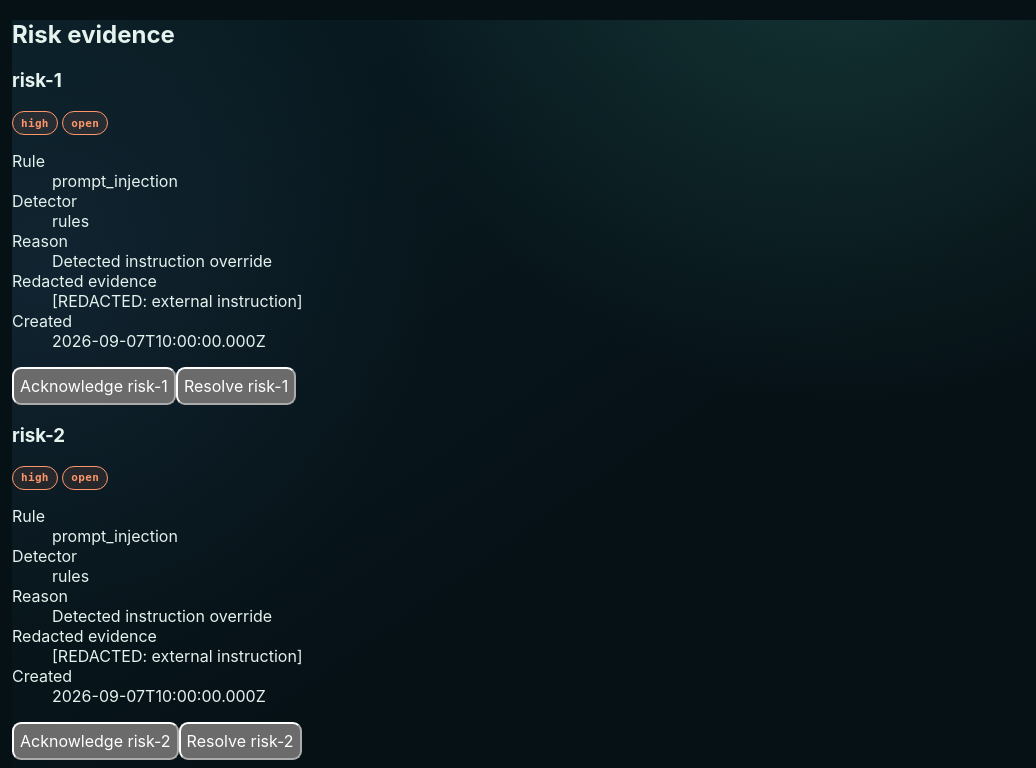
Test case: TraceRiskEvidence › disables only the pending event controls
This screenshot has width=1036, height=768.
Click the button "Acknowledge risk-1".
click(94, 386)  # box [12, 367, 176, 405]
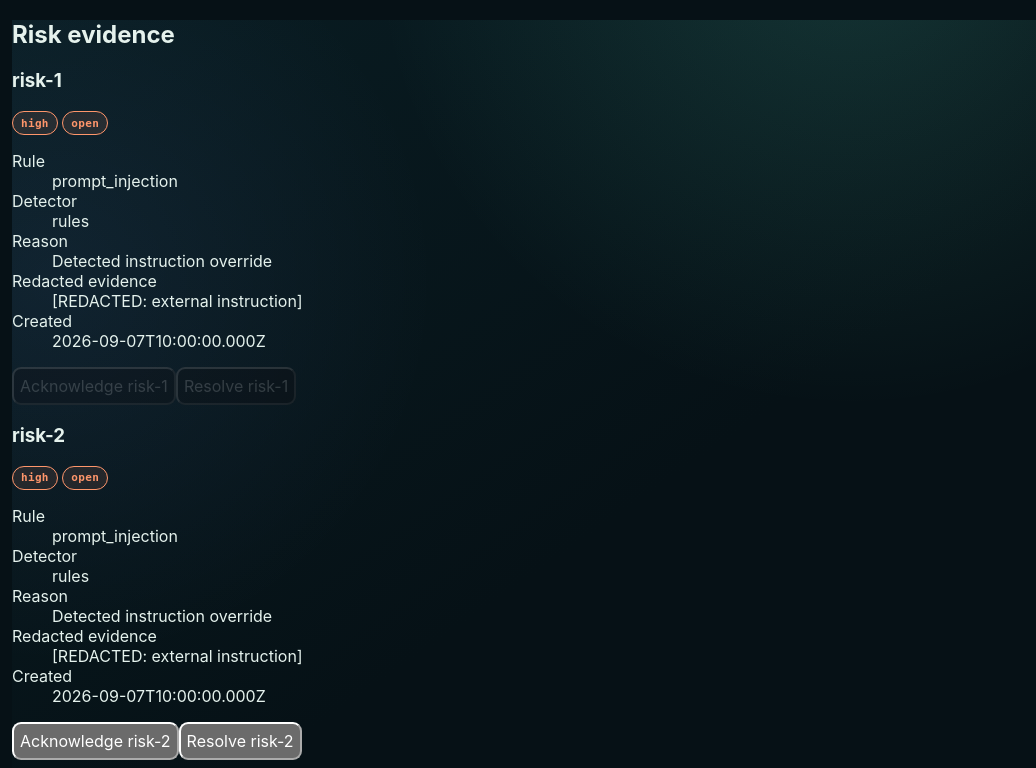
Check: the button "Acknowledge risk-2" is enabled, box [12, 722, 179, 760]
Check: the button "Acknowledge risk-1" is disabled, box [12, 367, 176, 405]
Check: the button "Resolve risk-1" is disabled, box [176, 367, 296, 405]
